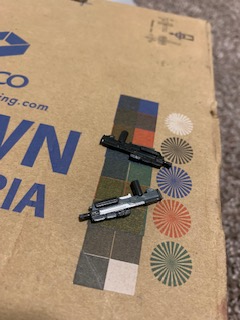rifle: (77, 179, 164, 225), (94, 128, 174, 172)
